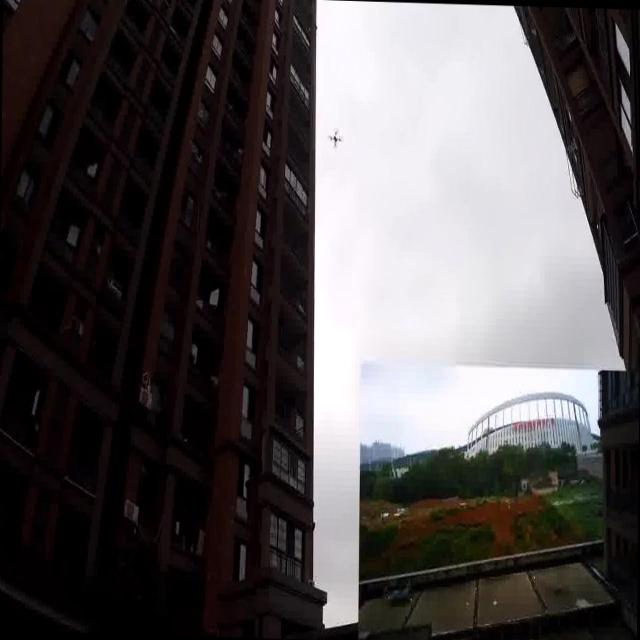drone: (329, 126, 342, 150)
